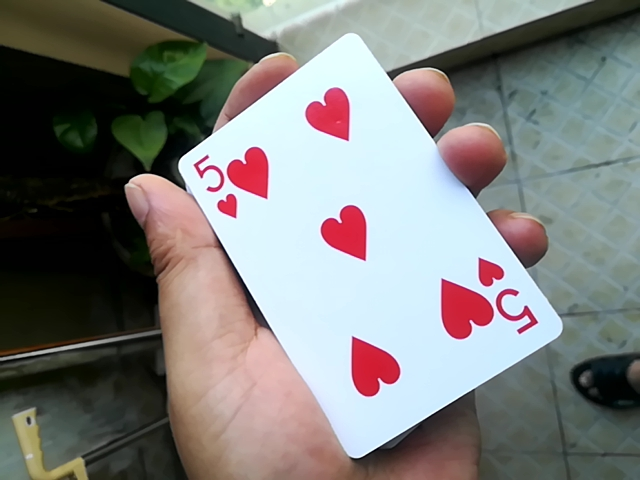hx 5: (167, 29, 563, 463)
